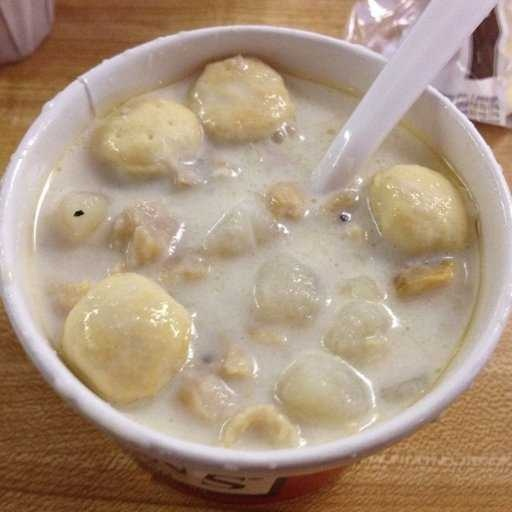soup: (30, 62, 467, 418)
